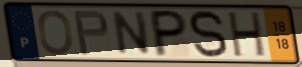H: (227, 10, 267, 59)
N: (111, 10, 152, 57)
O: (36, 8, 75, 56)
P: (150, 8, 189, 59), (71, 9, 111, 57)
S: (187, 8, 231, 60)
